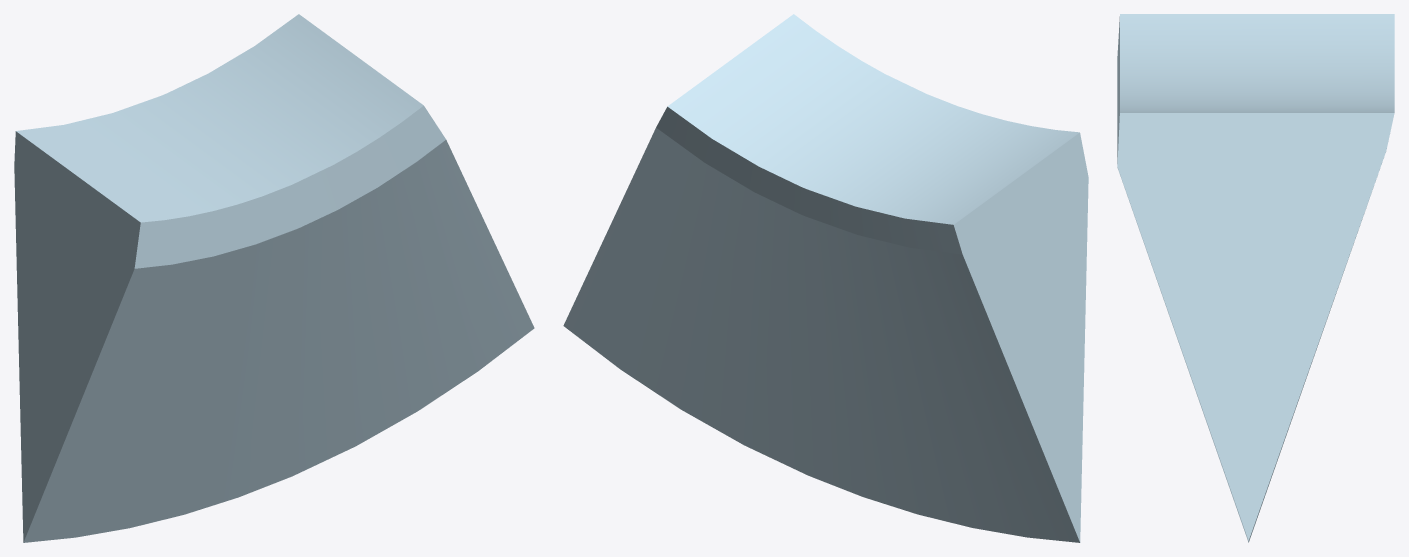
The model's file is Sub_5_Cell_1_1.gltf.
3 renders of one model, left to right at view 1: azimuth 30°, elevation 25°; view 2: azimuth 150°, elevation 25°; view 3: azimuth 270°, elevation 25°, orthographic. The views are drawn at different scales.
Visible parts, largest first — view 1: Sub_5_Cell_1_1; view 2: Sub_5_Cell_1_1; view 3: Sub_5_Cell_1_1.
Boxes of the visible parts, left/top/right/bottom form: Sub_5_Cell_1_1: left=14, top=14, right=534, bottom=542; Sub_5_Cell_1_1: left=563, top=14, right=1088, bottom=542; Sub_5_Cell_1_1: left=1117, top=14, right=1394, bottom=542.
Size of the model in its own units: 0.0863 by 0.0658 by 0.0369.
